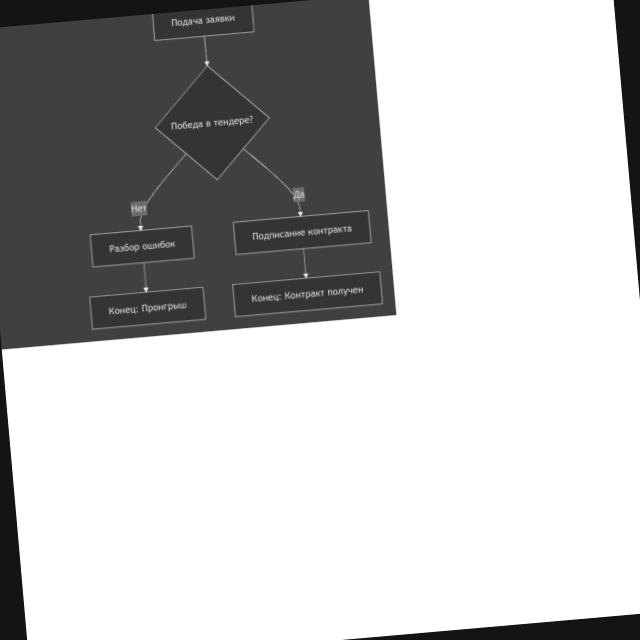arrow: (244, 149, 293, 195), (147, 154, 186, 204), (143, 264, 148, 292), (303, 250, 308, 278), (204, 38, 209, 65)
diamond: (157, 67, 269, 178)
rectangle: (233, 272, 382, 317), (234, 211, 371, 254), (90, 288, 206, 329), (90, 226, 193, 267)
text_region: (130, 201, 148, 215), (291, 188, 307, 202)
